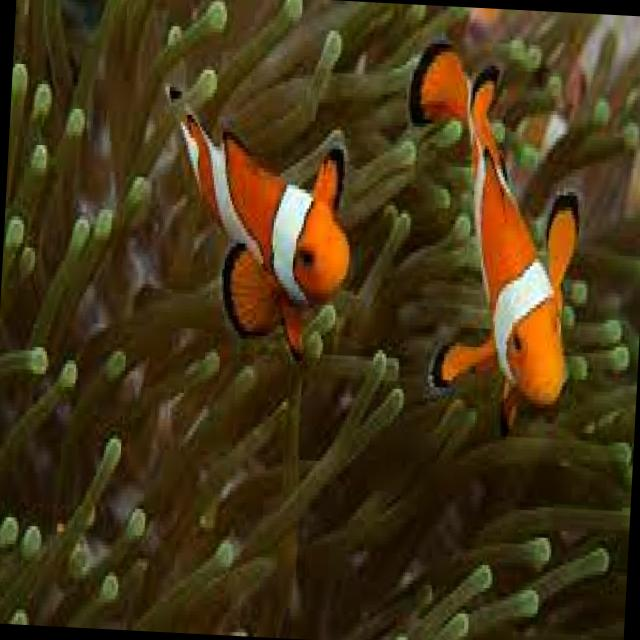ClownFish: (392, 38, 589, 440), (152, 73, 360, 368)
